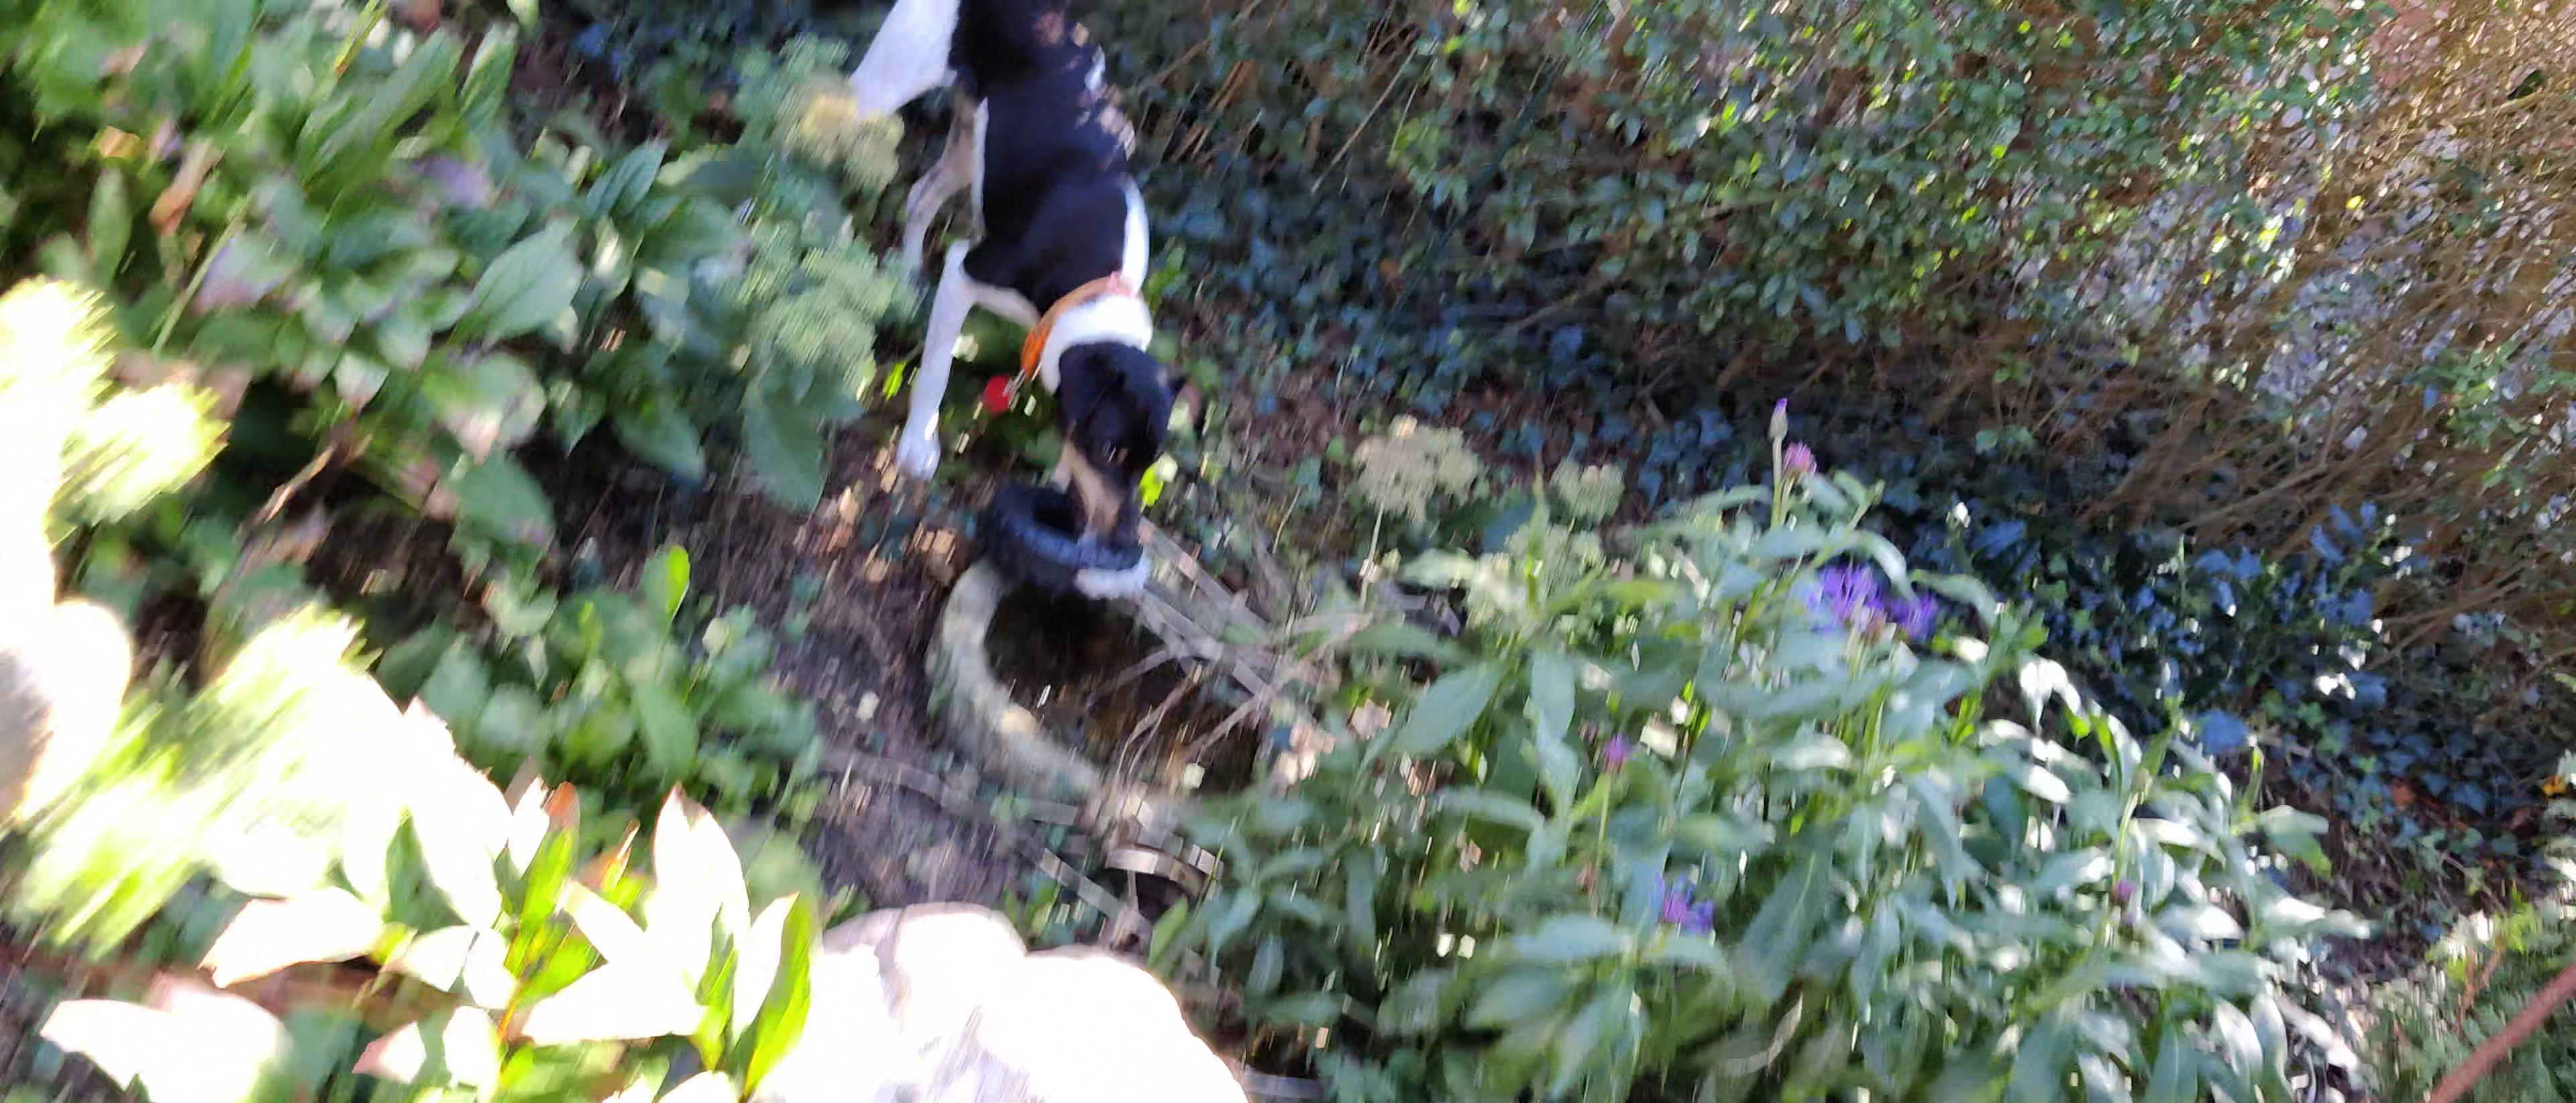Dog: (844, 0, 1198, 554)
